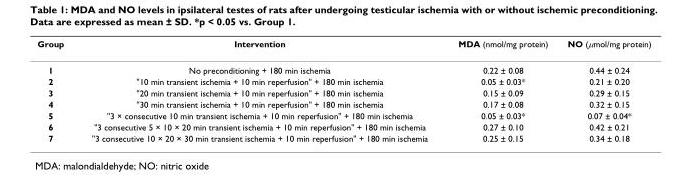table: (36, 37, 650, 142)
table column: (77, 37, 442, 142), (442, 37, 557, 142), (557, 37, 650, 142), (36, 37, 77, 142)
table column header: (36, 37, 650, 56)
table row: (36, 37, 650, 56), (36, 56, 650, 75), (36, 86, 650, 98), (36, 120, 650, 132), (36, 75, 650, 86), (36, 98, 650, 109), (36, 109, 650, 120), (36, 132, 650, 142)
